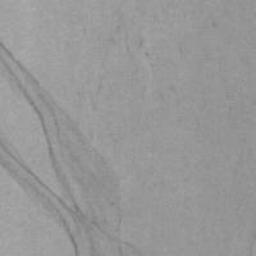Water spot: (0, 29, 154, 256)
